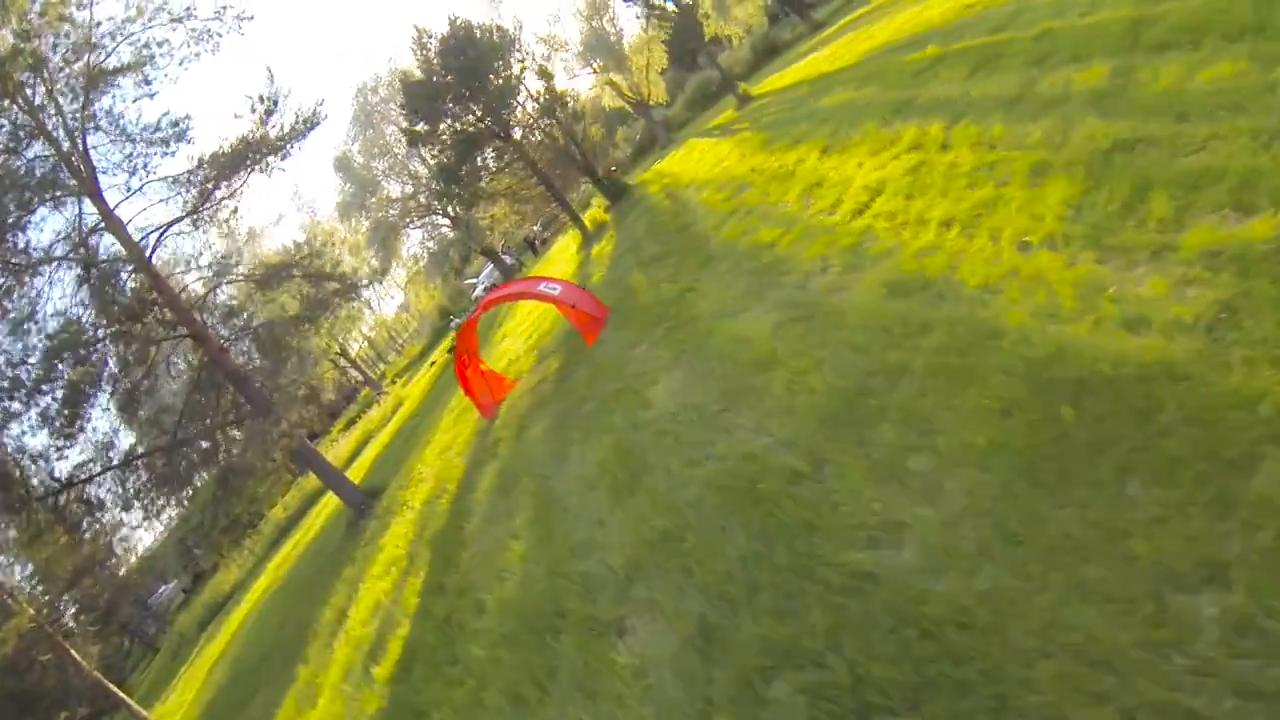gate: (447, 274, 616, 417)
